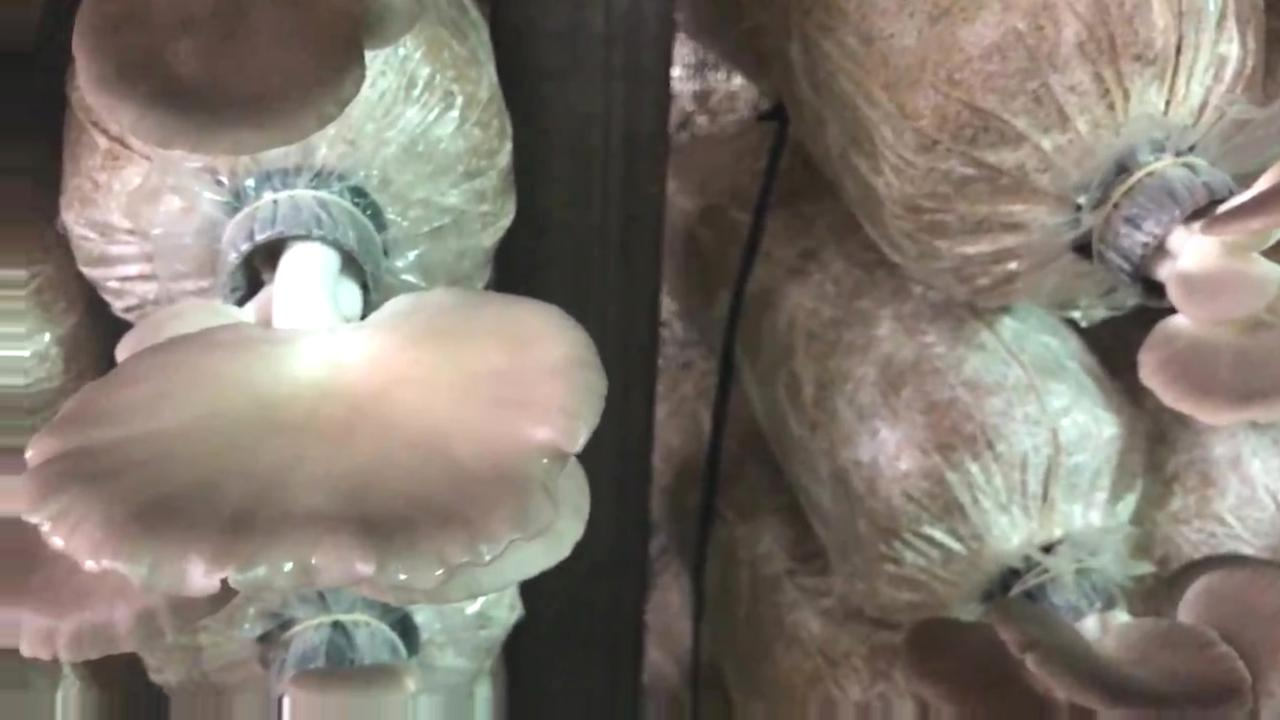nam: (21, 174, 611, 605), (896, 549, 1279, 720), (71, 1, 430, 159), (1102, 141, 1280, 425)
